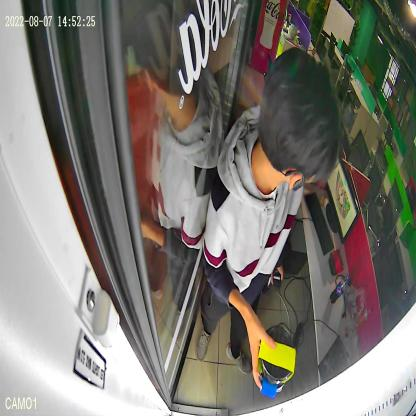blue: (257, 365, 284, 399)
yellow: (256, 324, 296, 384)
